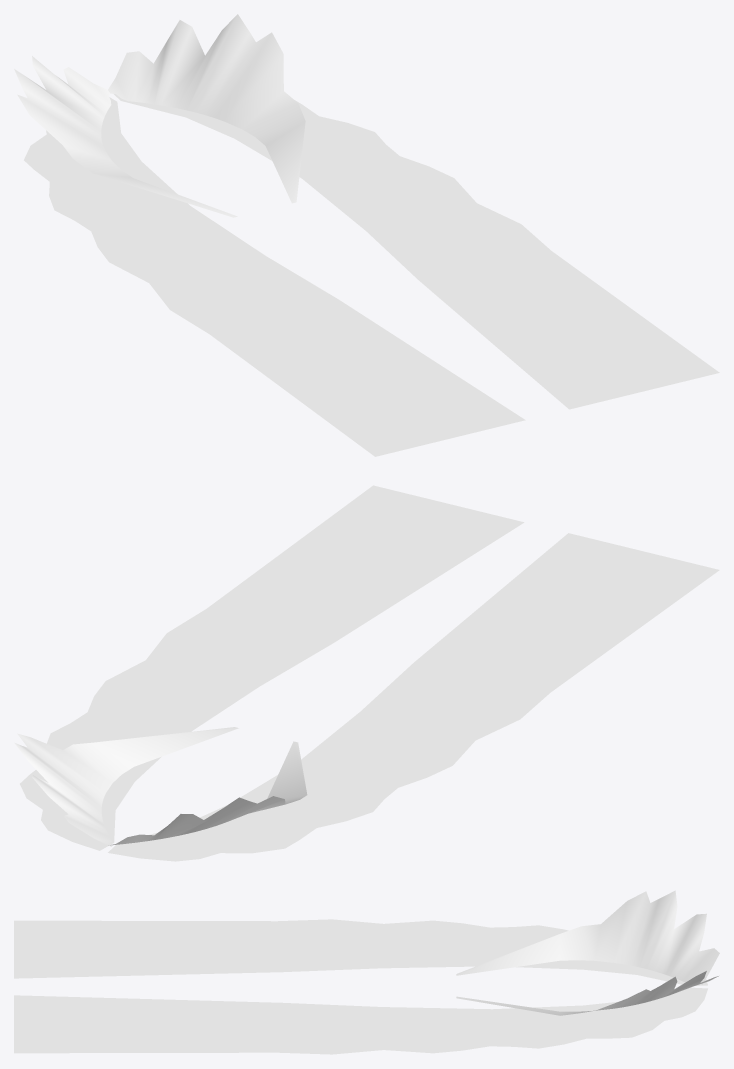
The model's file is PirateShipFoam.FBX.
3 views of the same model, one above another, from view 1: azimuth 30°, elevation 25°; view 2: azimuth 150°, elevation 25°; view 3: azimuth 270°, elevation 25° (orthographic). The views are drawn at different scales.
Parts seen in each view (by area): view 1: PirateShipfoam, HighFoam; view 2: PirateShipfoam, HighFoam; view 3: PirateShipfoam, HighFoam.
Boxes of the visible parts, x1,y1,x2,y2 form: PirateShipfoam: (24, 94, 719, 456); HighFoam: (14, 14, 305, 217); PirateShipfoam: (20, 485, 719, 861); HighFoam: (14, 727, 307, 846); PirateShipfoam: (14, 919, 707, 1054); HighFoam: (456, 890, 719, 1015).
Bounding box in the file's own units: 46.47 × 8.45 × 103.
Materials: 1 (1 with a texture image).
